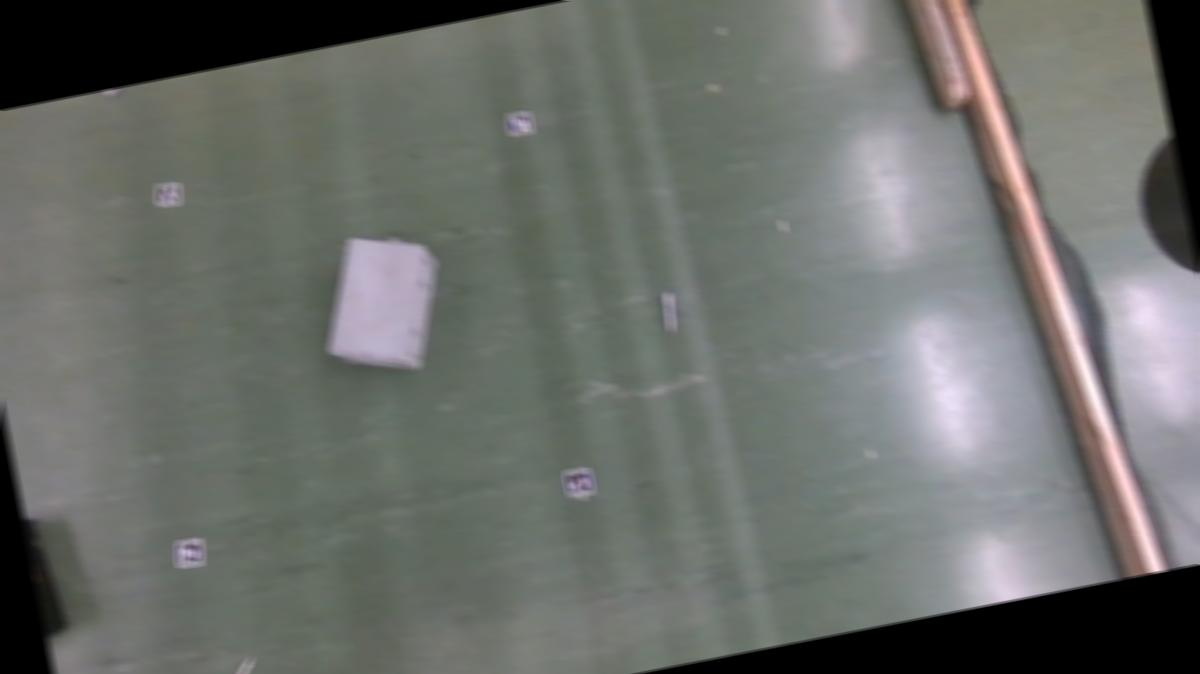probes: (660, 293, 682, 336), (220, 657, 260, 674), (106, 85, 134, 97)
rako: (308, 225, 456, 388), (22, 512, 72, 654)
